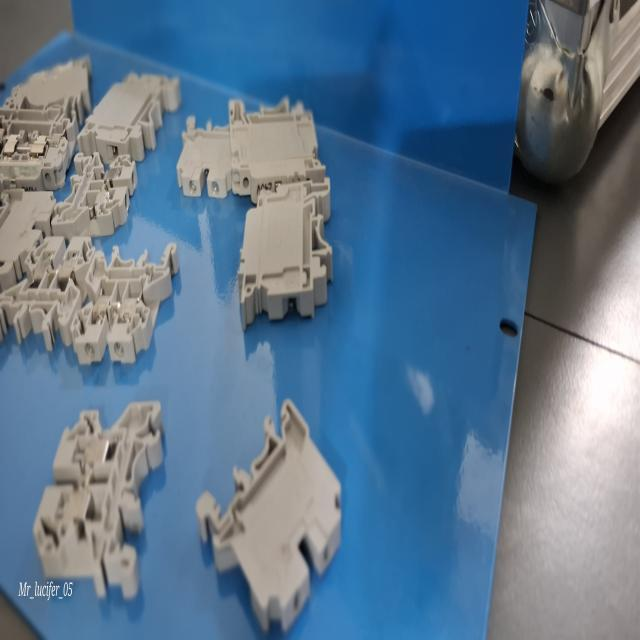Inverted: (197, 392, 362, 624), (177, 110, 240, 204)
Pass: (27, 382, 175, 616), (78, 237, 180, 394), (0, 230, 92, 352), (51, 149, 141, 239)
